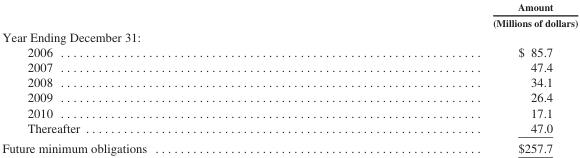table: (1, 1, 577, 154)
table column: (1, 1, 319, 154), (319, 1, 577, 154)
table column header: (1, 1, 577, 28)
table projected row header: (1, 28, 577, 44)
table row: (1, 1, 577, 28), (1, 119, 577, 137), (1, 137, 577, 154), (1, 28, 577, 44), (1, 44, 577, 59), (1, 59, 577, 74), (1, 74, 577, 89), (1, 89, 577, 104), (1, 104, 577, 119)
